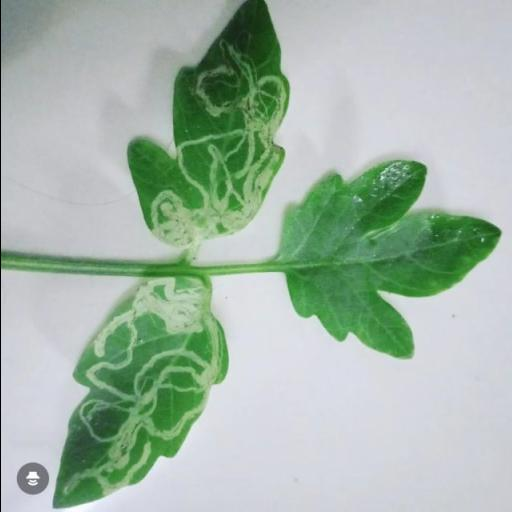Leaf Miner: (50, 279, 231, 512), (121, 0, 292, 245)
